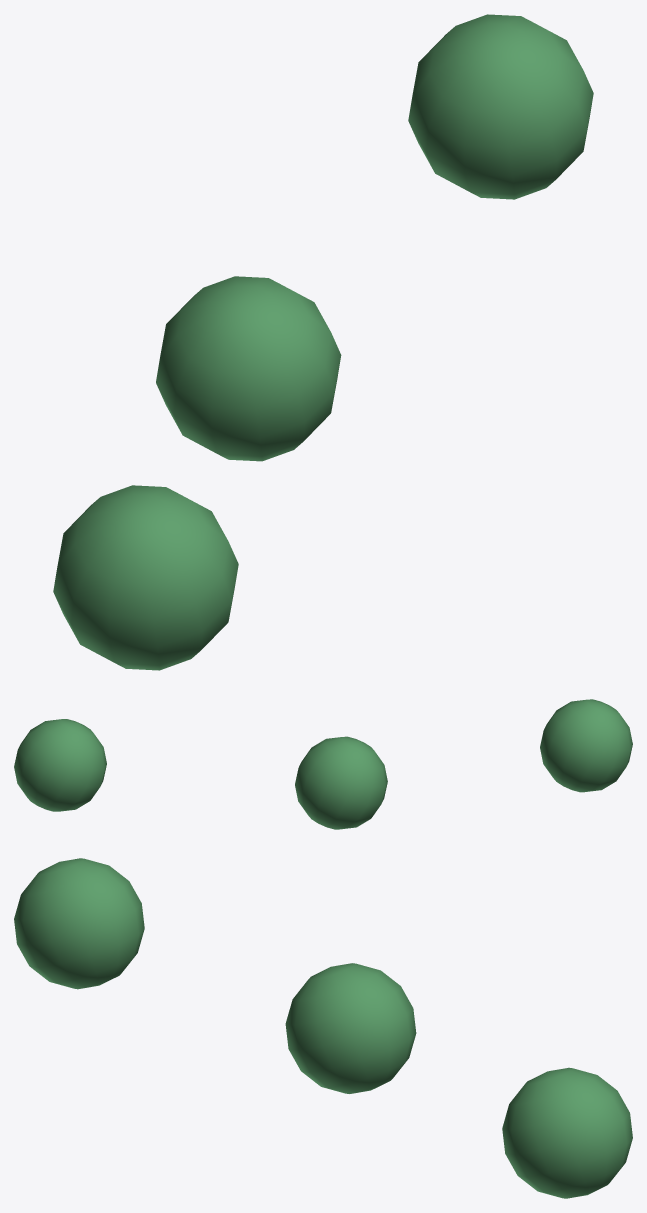
The picture shows the model from 3 angles, top to bottom: view 1: azimuth 30°, elevation 25°; view 2: azimuth 150°, elevation 25°; view 3: azimuth 270°, elevation 25°; orthographic projection. The views are drawn at different scales.
Visible parts, largest first — view 1: 右侧腹股沟浅淋巴结上外侧群; view 2: 右侧腹股沟浅淋巴结上外侧群; view 3: 右侧腹股沟浅淋巴结上外侧群.
Part boxes in pixels (left/top/right/bottom): 右侧腹股沟浅淋巴结上外侧群: left=53, top=14, right=593, bottom=670; 右侧腹股沟浅淋巴结上外侧群: left=14, top=699, right=632, bottom=829; 右侧腹股沟浅淋巴结上外侧群: left=14, top=858, right=632, bottom=1198.
Bounding box in the file's own units: 0.0204 × 0.00493 × 0.018.
